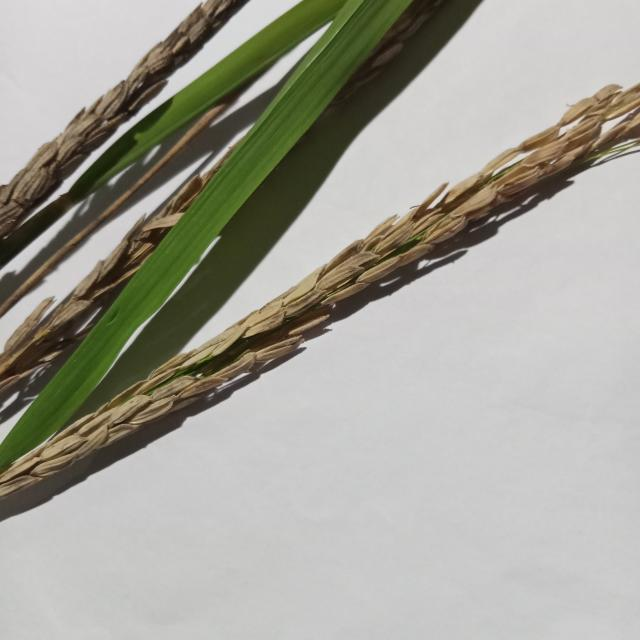Neck_Blast: (0, 82, 640, 495), (0, 1, 257, 253), (0, 169, 213, 400)
